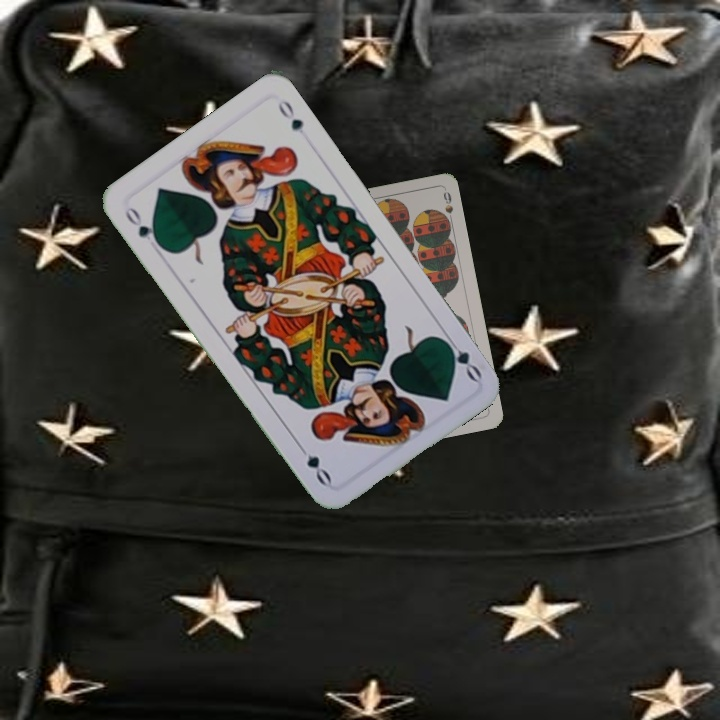GO: (438, 331, 485, 384), (120, 203, 165, 251)
